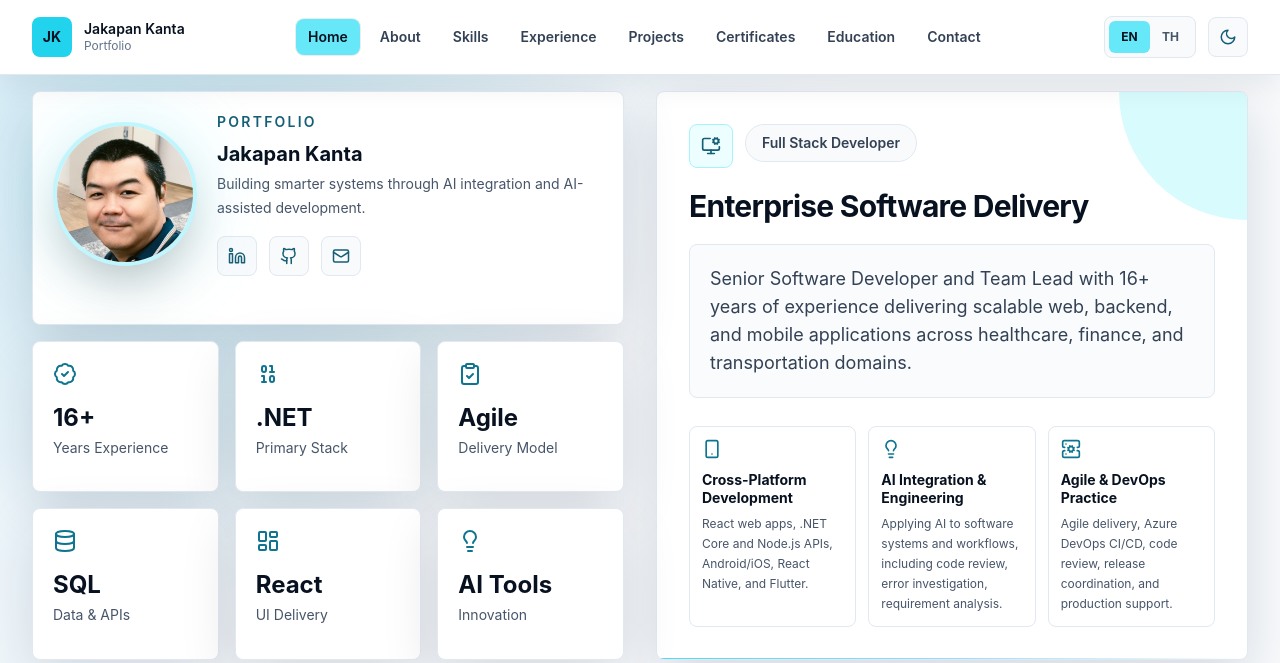
Test: App › switches between English and Thai content
Click the button "TH" at [1170, 37], box [1150,21,1191,53]
(page scrolled)
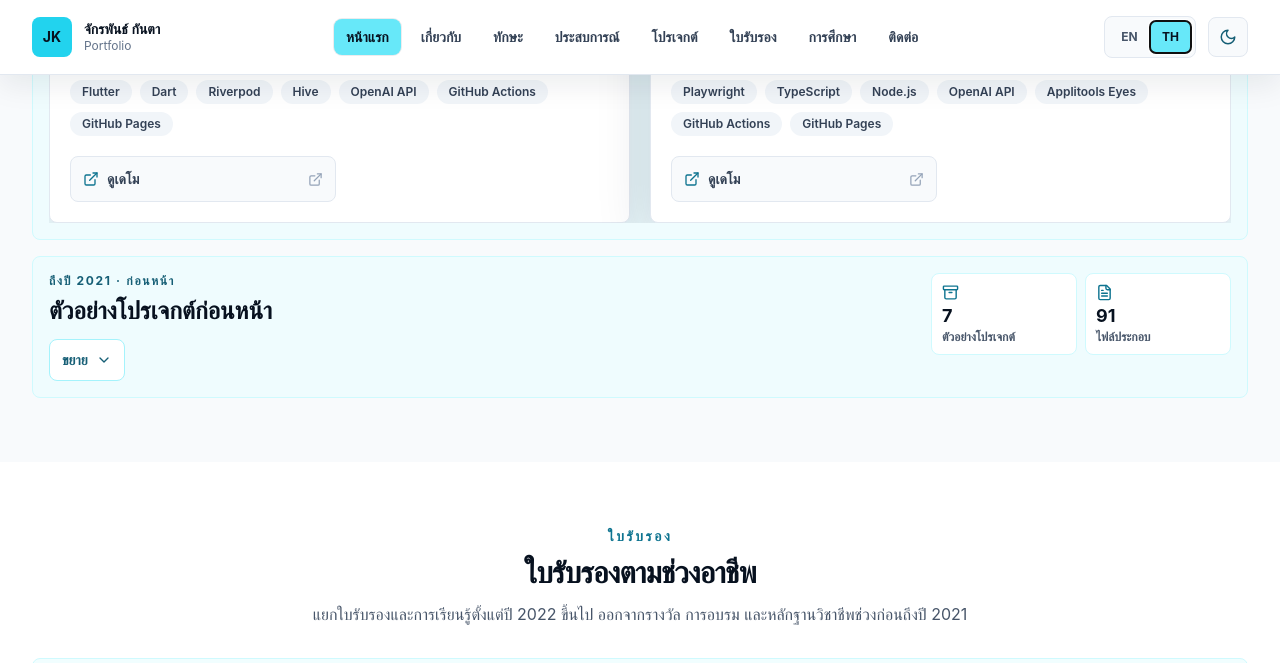
Click the button "ขยาย" at [87, 360], box [49,339,125,381]
(page scrolled)
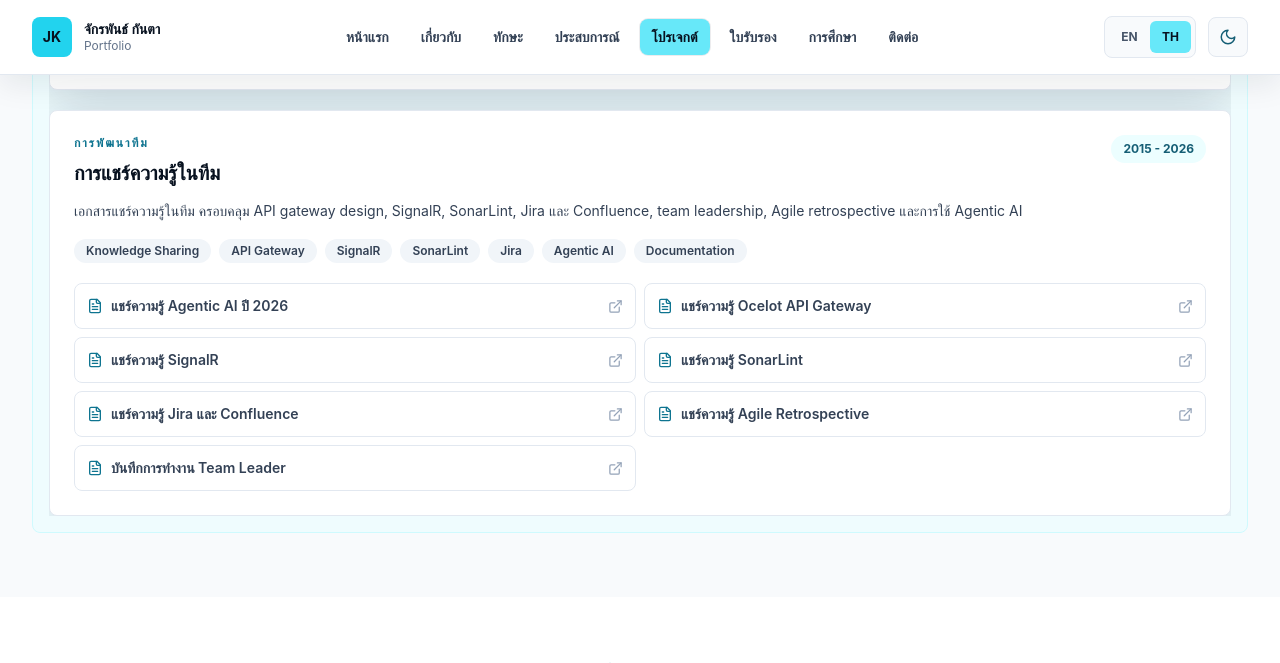
Check: the text "จักรพันธ์ กันตา" is shown, box [84,20,160,38]
Check: the link "ประสบการณ์" is shown, box [555,28,620,45]
Check: the heading "การแชร์ความรู้ในทีม" is shown, box [74,159,220,187]
